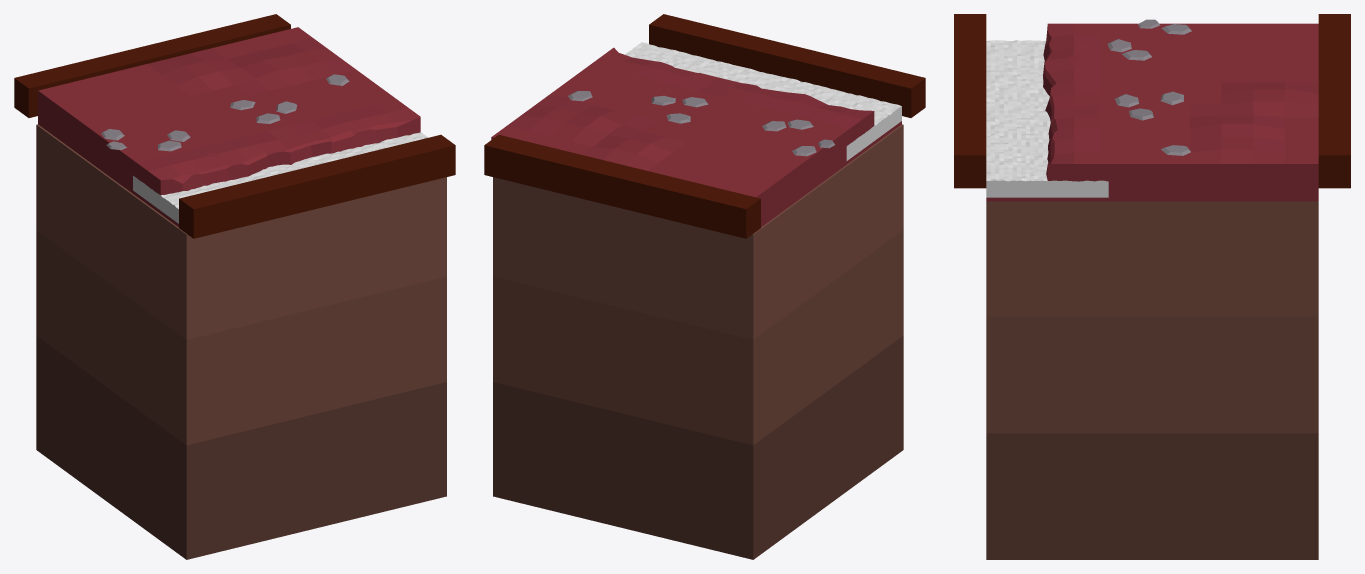
File: Plano8.fbx
3 renders of one model, left to right at view 1: azimuth 30°, elevation 25°; view 2: azimuth 150°, elevation 25°; view 3: azimuth 270°, elevation 25°, orthographic. The views are drawn at different scales.
Parts seen in each view (by area): view 1: Plane.057, Plane.041, Cube.1718, Plane.042; view 2: Plane.057, Plane.041, Cube.1718, Plane.042; view 3: Plane.057, Plane.041, Cube.1718, Plane.042.
Part boxes in pixels (<box>): Plane.057: <box>36,124,446,559</box>; Plane.041: <box>38,27,420,226</box>; Cube.1718: <box>14,14,455,238</box>; Plane.042: <box>133,132,428,223</box>; Plane.057: <box>493,124,903,559</box>; Plane.041: <box>491,47,901,226</box>; Cube.1718: <box>484,14,925,238</box>; Plane.042: <box>625,42,901,160</box>; Plane.057: <box>986,201,1318,559</box>; Plane.041: <box>986,23,1318,201</box>; Cube.1718: <box>954,14,1350,188</box>; Plane.042: <box>986,40,1108,197</box>.
Size of the model in its own units: 828 by 1068 by 955.
